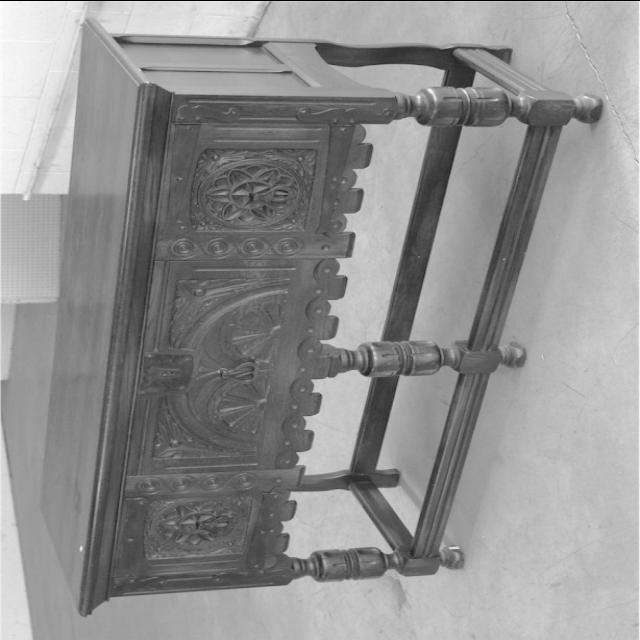table: (38, 17, 602, 614)
